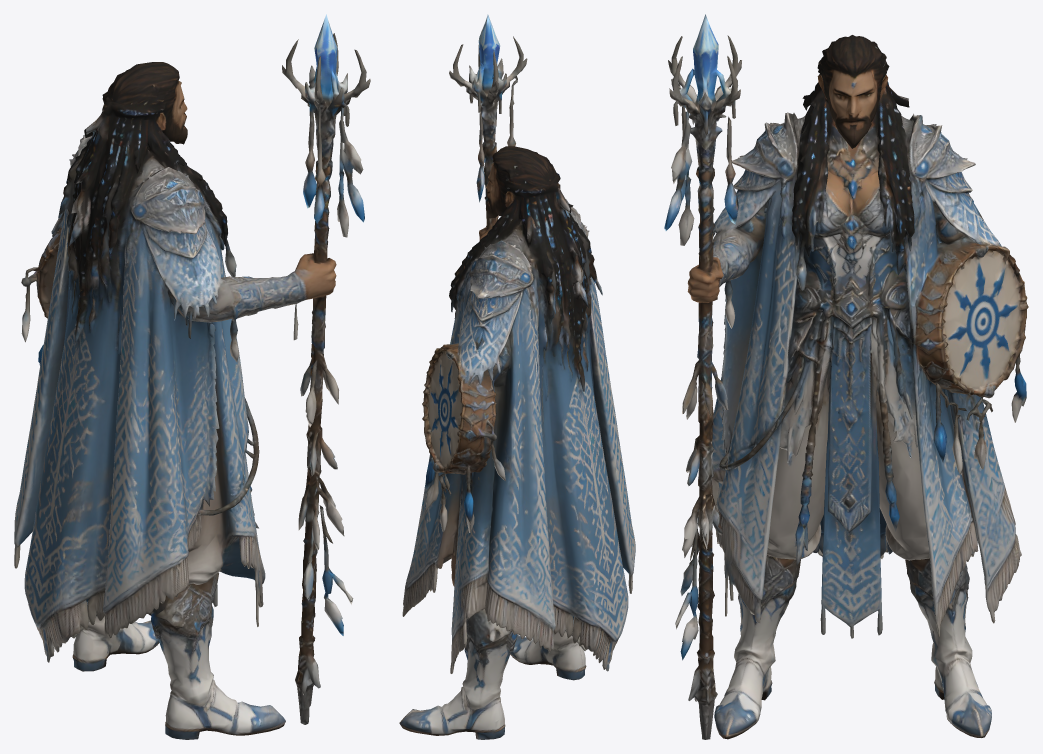
Rendered from drumcalleralt_T4-tripo.glb.
3 renders of one model, left to right at view 1: azimuth 30°, elevation 25°; view 2: azimuth 150°, elevation 25°; view 3: azimuth 270°, elevation 25°, orthographic. The views are drawn at different scales.
Visible parts, largest first — view 1: tripo_node_c3830d75-a503-427f-82c6-af10127f77be; view 2: tripo_node_c3830d75-a503-427f-82c6-af10127f77be; view 3: tripo_node_c3830d75-a503-427f-82c6-af10127f77be.
Boxes of the visible parts, box(x1,y1,x2,y2) form: tripo_node_c3830d75-a503-427f-82c6-af10127f77be: box(14, 14, 370, 739); tripo_node_c3830d75-a503-427f-82c6-af10127f77be: box(399, 14, 635, 739); tripo_node_c3830d75-a503-427f-82c6-af10127f77be: box(664, 14, 1028, 739).
Bounding box in the file's own units: 0.3638 × 1 × 0.4446.
Materials: 1 (1 with a texture image).
